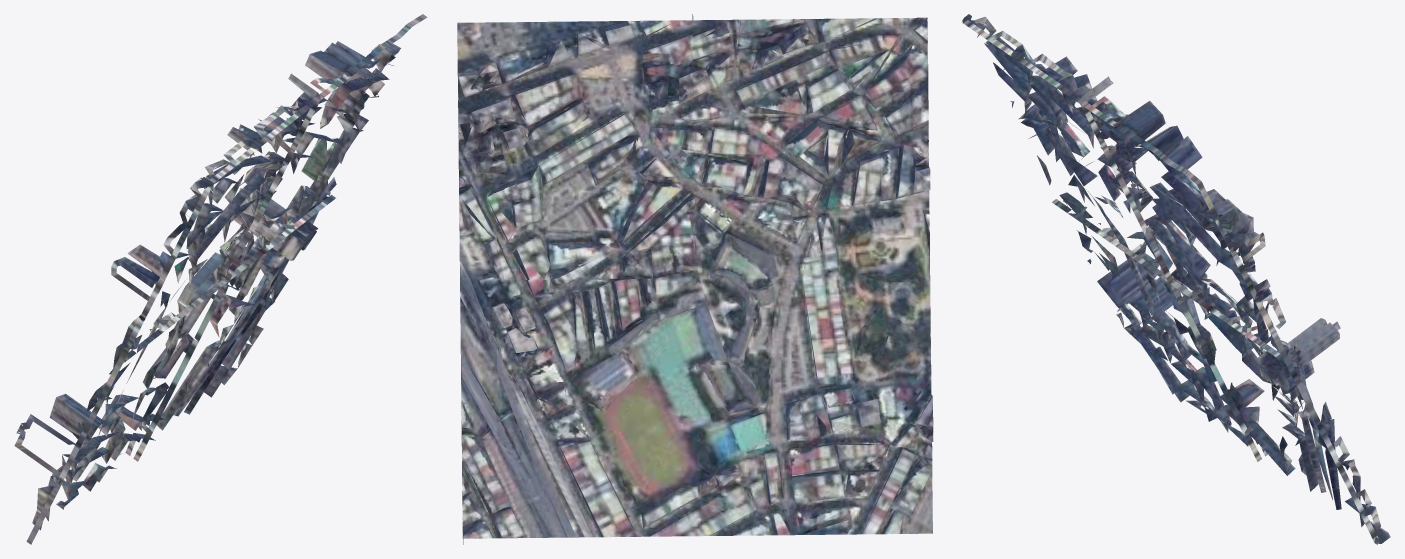
3 renders of one model, left to right at view 1: azimuth 30°, elevation 25°; view 2: azimuth 150°, elevation 25°; view 3: azimuth 270°, elevation 25°, orthographic. The views are drawn at different scales.
Bounding box in the file's own units: 620 × 583 × 530.
1 material, 1 textured.
